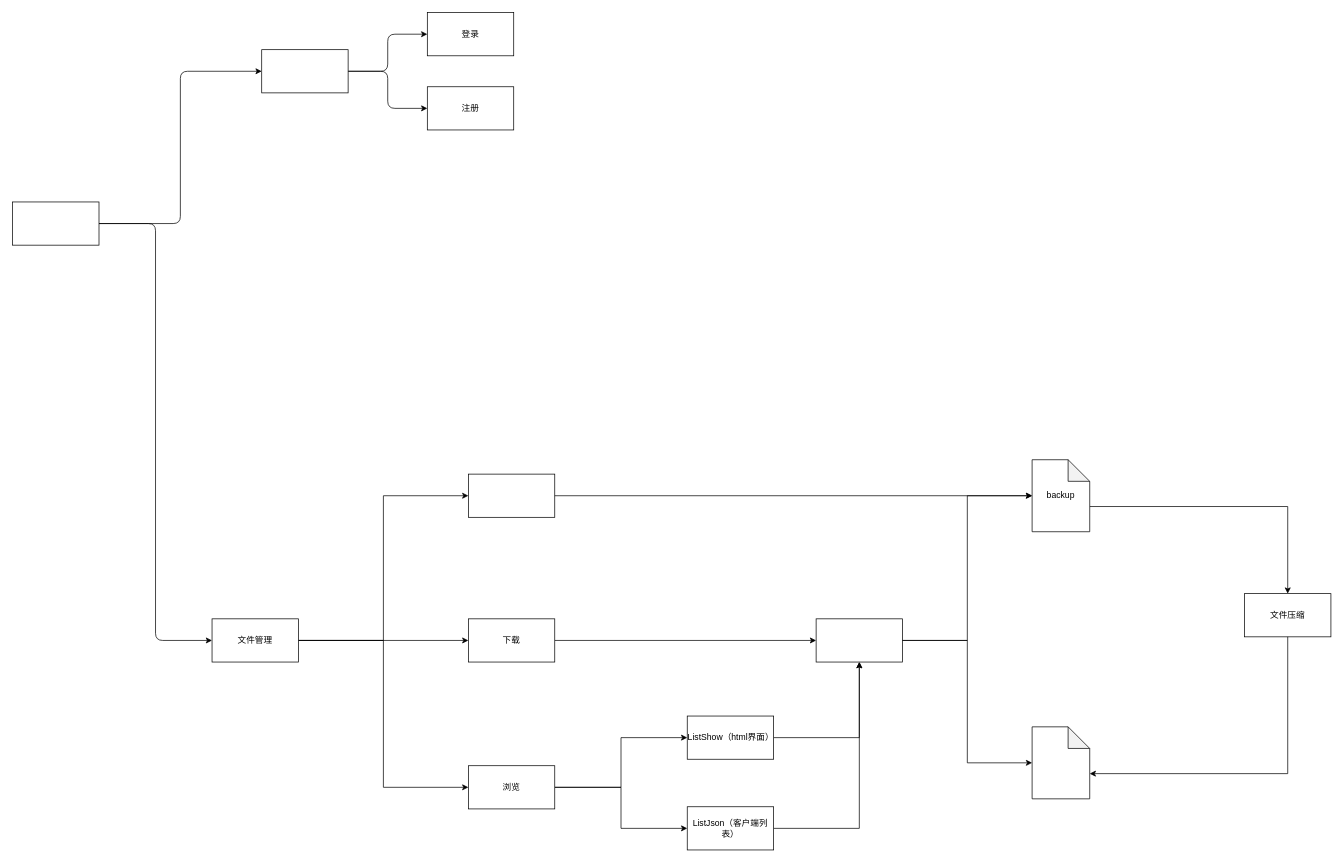
This 1344x863 diagram has some shape labels left out. The shapes that lost their labels are listed below. From the top down, each one's box as (x1, y1, x2, y2) in pixels, then its label:
(261, 49, 348, 93): 用户管理
(12, 201, 99, 245): 服务器
(468, 473, 555, 517): 上传
(815, 618, 903, 662): hash表
(1031, 726, 1090, 799): packup
